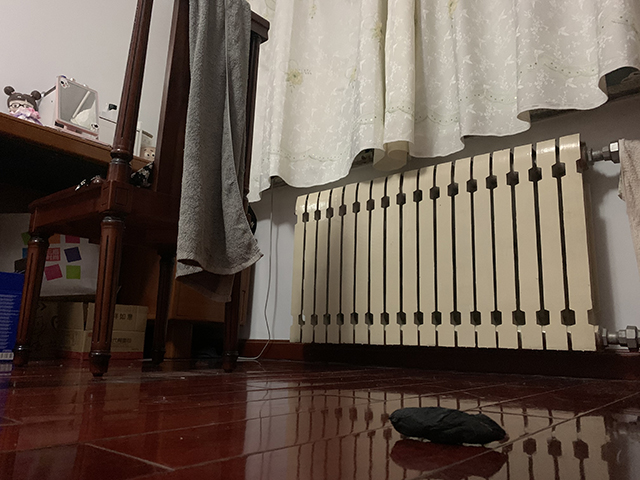curtain: (255, 1, 640, 206)
feces: (390, 404, 514, 449)
stool: (9, 1, 271, 380)
table: (1, 103, 259, 372)
wire: (233, 186, 271, 362)
